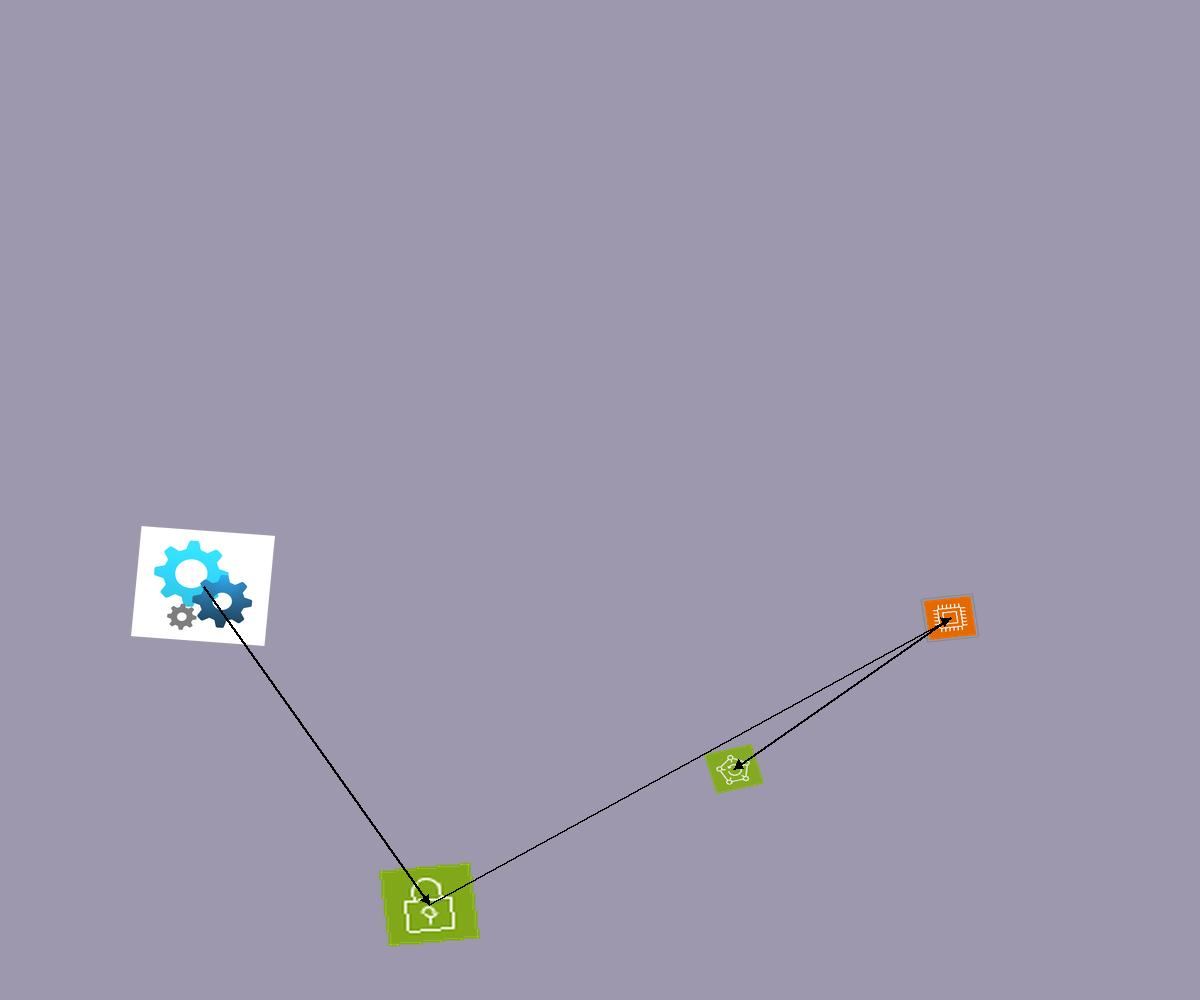AWS-Backup: (704, 744, 764, 794)
AWS-Category_Compute: (920, 593, 980, 643)
AWS-Public-subnet: (377, 861, 482, 948)
Azure_api: (131, 526, 275, 646)
